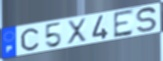4: (91, 14, 110, 40)
5: (44, 21, 63, 49)
C: (19, 27, 40, 51)
E: (113, 8, 135, 39)
S: (135, 7, 158, 33)
X: (66, 18, 88, 46)
